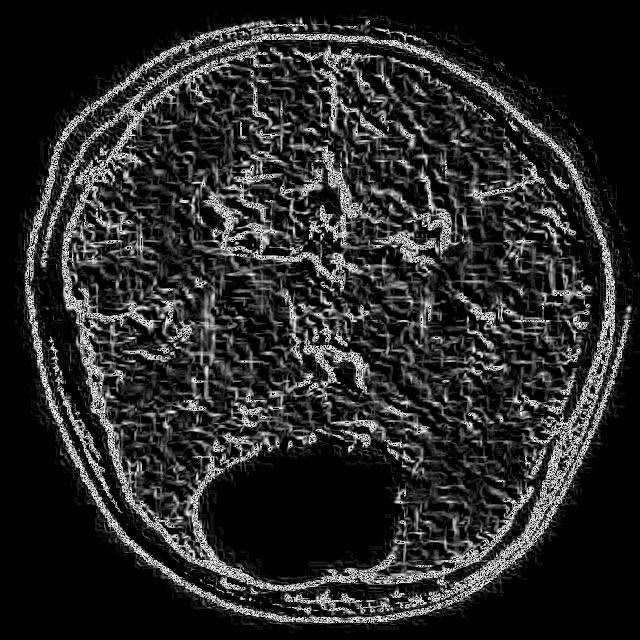Brain-Tumor: (182, 426, 421, 600)
